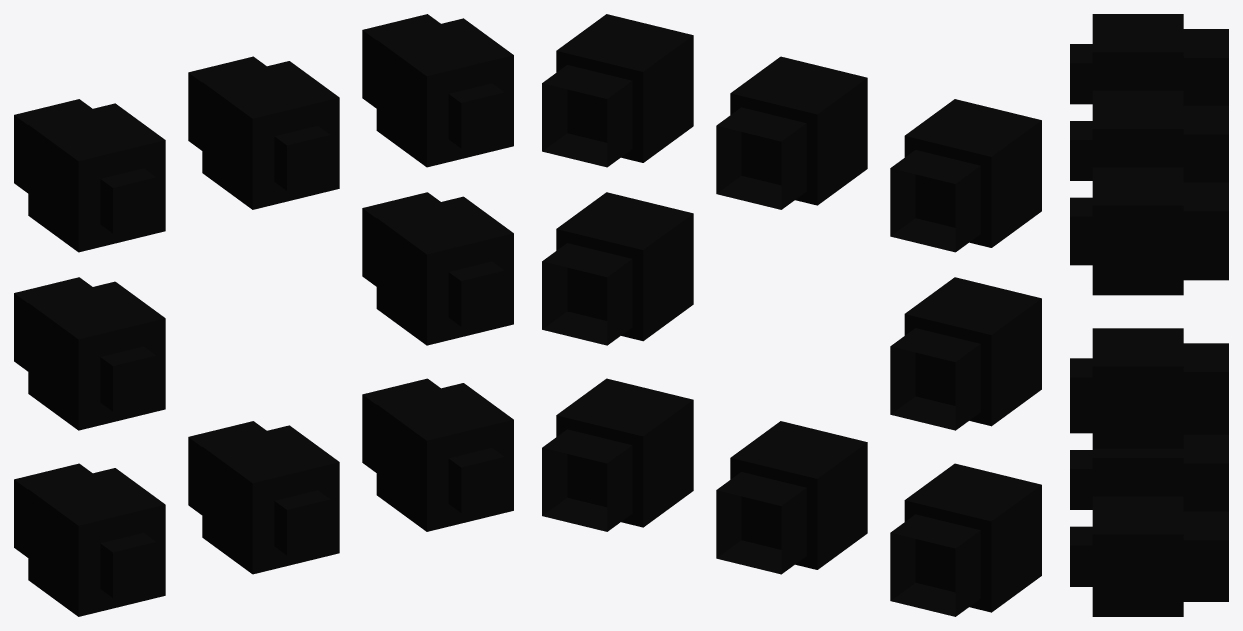
The model's file is logic_unit_glass.obj.
3 renders of one model, left to right at view 1: azimuth 30°, elevation 25°; view 2: azimuth 150°, elevation 25°; view 3: azimuth 270°, elevation 25°, orthographic. The views are drawn at different scales.
Visible parts, largest first — view 1: tubes; view 2: tubes; view 3: tubes.
Boxes of the visible parts, x1,y1,x2,y2 form: tubes: (14, 14, 513, 616); tubes: (542, 14, 1041, 616); tubes: (1070, 14, 1228, 616).
Size of the model in its own units: 0.625 by 0.625 by 0.2187.
